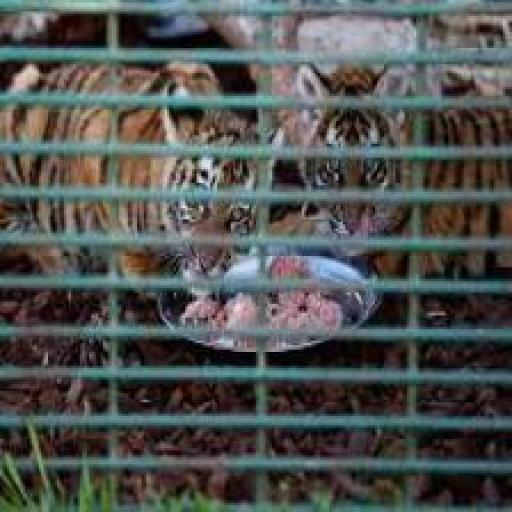Tiger: (7, 7, 512, 419)
